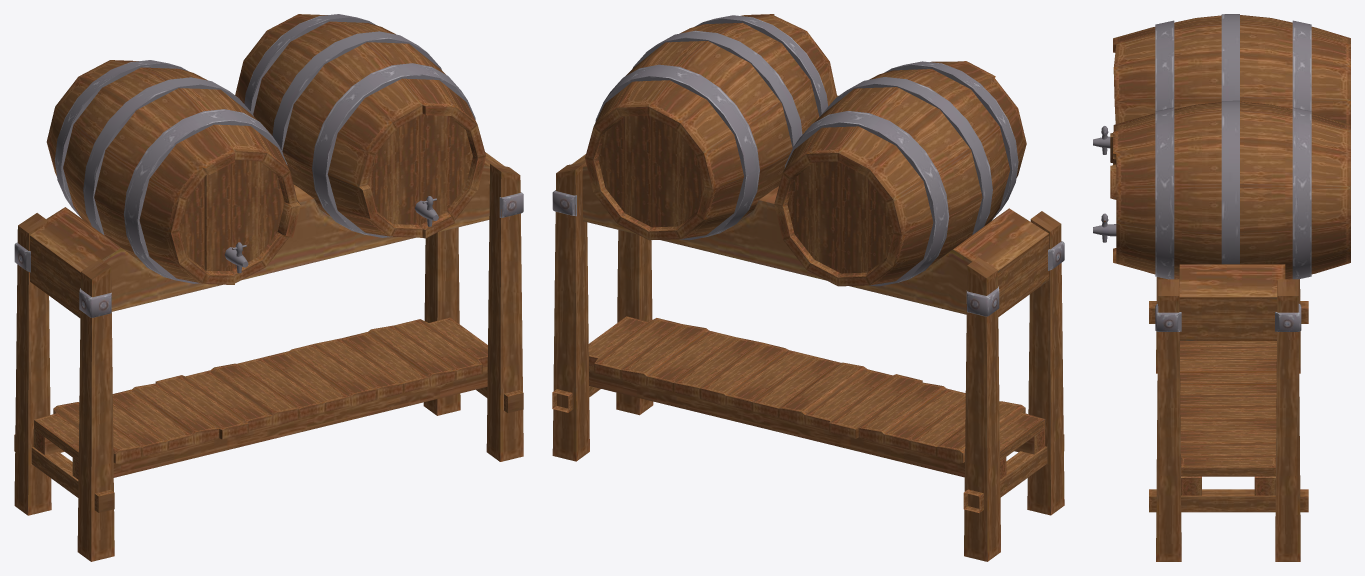
The model's file is barrel-qp-barrelholder.glb.
3 views of the same model, side by side, from view 1: azimuth 30°, elevation 25°; view 2: azimuth 150°, elevation 25°; view 3: azimuth 270°, elevation 25° (orthographic). The views are drawn at different scales.
Visible parts, largest first — view 1: Cube_045; view 2: Cube_045; view 3: Cube_045.
Part boxes in pixels (x1,y1,x2,y2): Cube_045: [14, 14, 523, 561]; Cube_045: [552, 14, 1064, 561]; Cube_045: [1093, 14, 1350, 561].
Bounding box in the file's own units: 1.36 × 1.26 × 0.741.
Materials: 2 (2 with a texture image).
